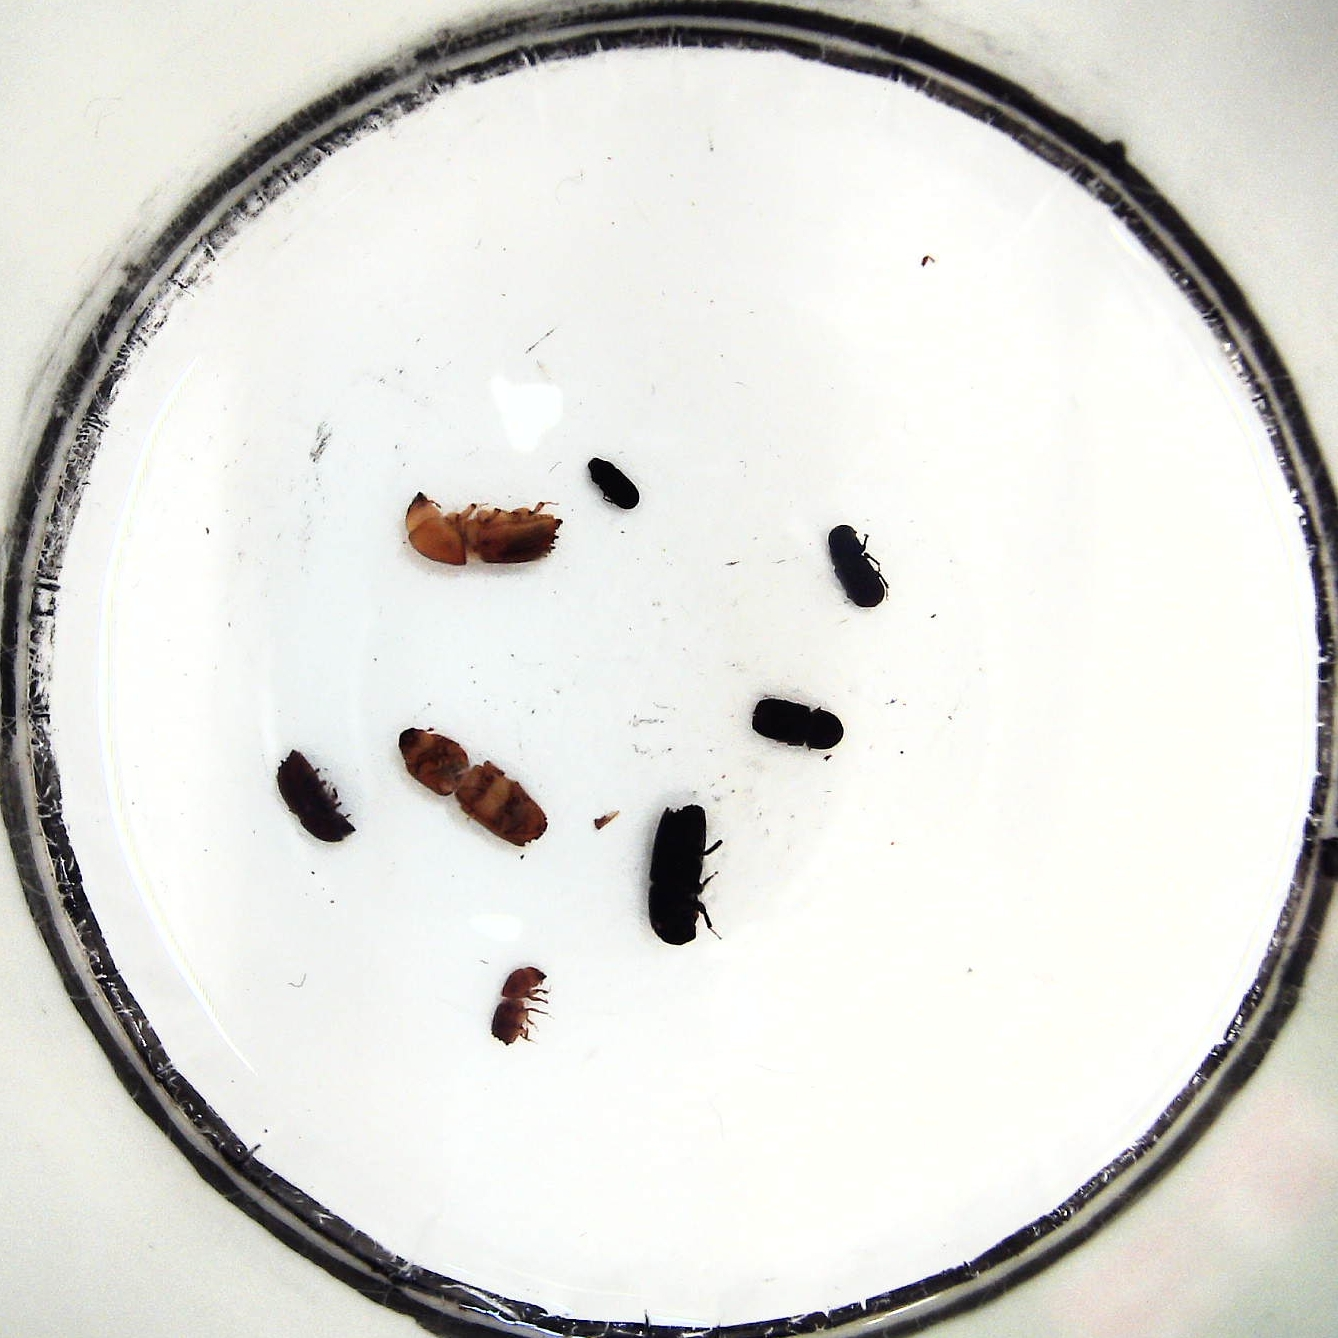Boerner: (397, 723, 551, 852), (401, 488, 569, 575), (640, 801, 718, 952)
Linnaeus: (277, 746, 357, 852), (752, 692, 849, 758)
acuminatus: (485, 964, 556, 1049)
armandi: (825, 523, 892, 615)
coleoptera: (580, 451, 646, 513)
